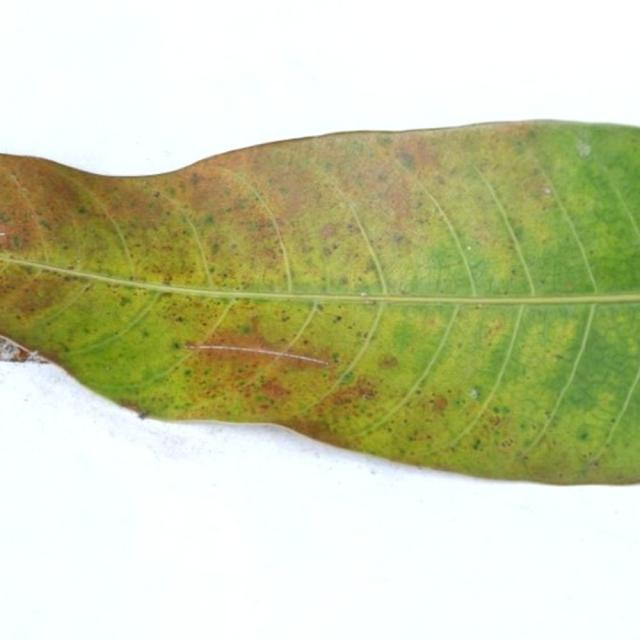Mango: (0, 120, 639, 489)
Powdery_Mildew: (487, 324, 527, 400), (381, 317, 426, 359), (554, 421, 601, 451), (197, 208, 222, 236), (317, 239, 345, 263), (208, 237, 232, 263), (364, 252, 385, 281), (69, 202, 97, 222), (164, 335, 186, 358), (184, 170, 208, 191), (132, 324, 157, 344), (109, 296, 140, 312), (272, 306, 294, 328), (56, 335, 73, 360), (376, 133, 398, 152), (170, 311, 192, 330), (180, 365, 199, 381), (76, 325, 98, 337)
